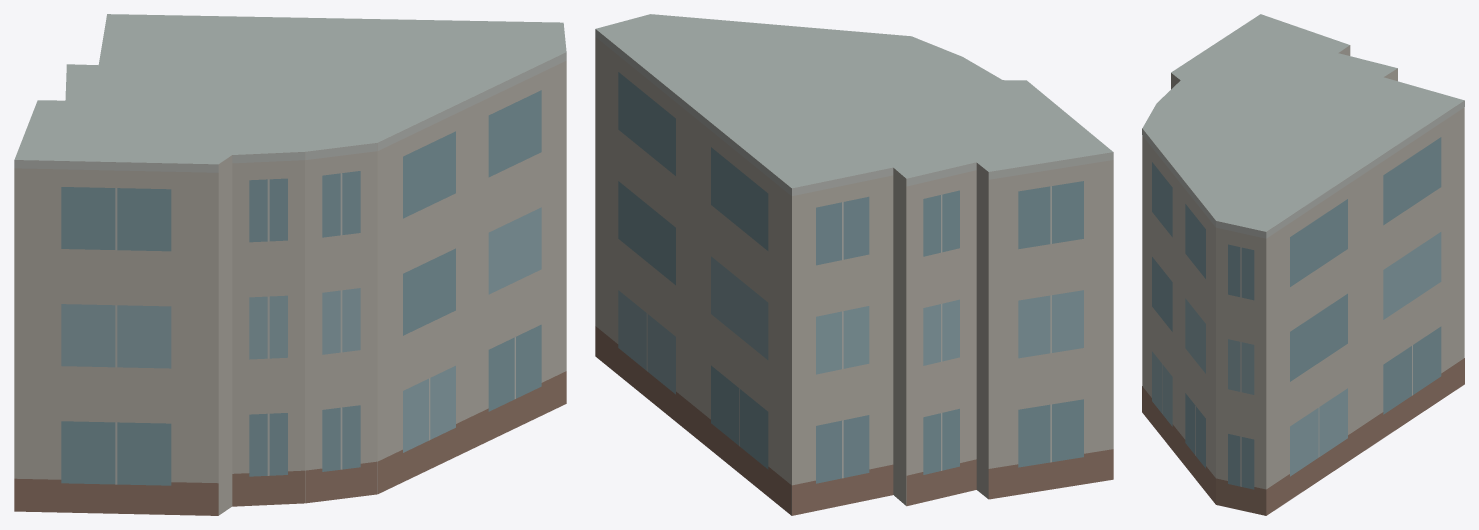
Rendered from survey-upis-32642718.glb.
The picture shows the model from 3 angles, left to right: view 1: azimuth 30°, elevation 25°; view 2: azimuth 150°, elevation 25°; view 3: azimuth 270°, elevation 25°; orthographic projection. The views are drawn at different scales.
Parts seen in each view (by area): view 1: survey-upis-32642718.tmp; view 2: survey-upis-32642718.tmp; view 3: survey-upis-32642718.tmp.
Boxes of the visible parts, left/top/right/bottom form: survey-upis-32642718.tmp: left=14, top=14, right=566, bottom=515; survey-upis-32642718.tmp: left=595, top=14, right=1113, bottom=515; survey-upis-32642718.tmp: left=1142, top=14, right=1464, bottom=515.
Size of the model in its own units: 16.79 by 10.2 by 10.51.
